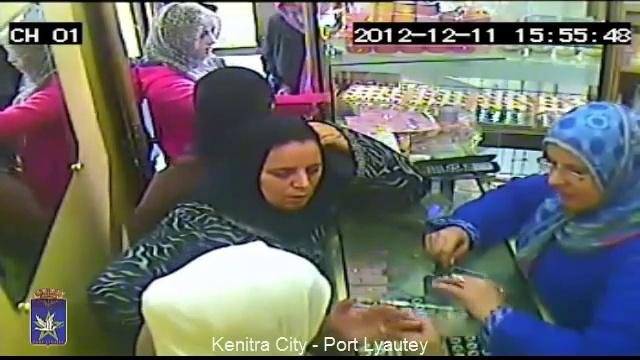Product: (390, 310, 413, 331)
Product-Picked: (133, 231, 462, 360)
Regular: (465, 86, 640, 360), (138, 0, 355, 165), (226, 107, 350, 223), (175, 42, 270, 149)
